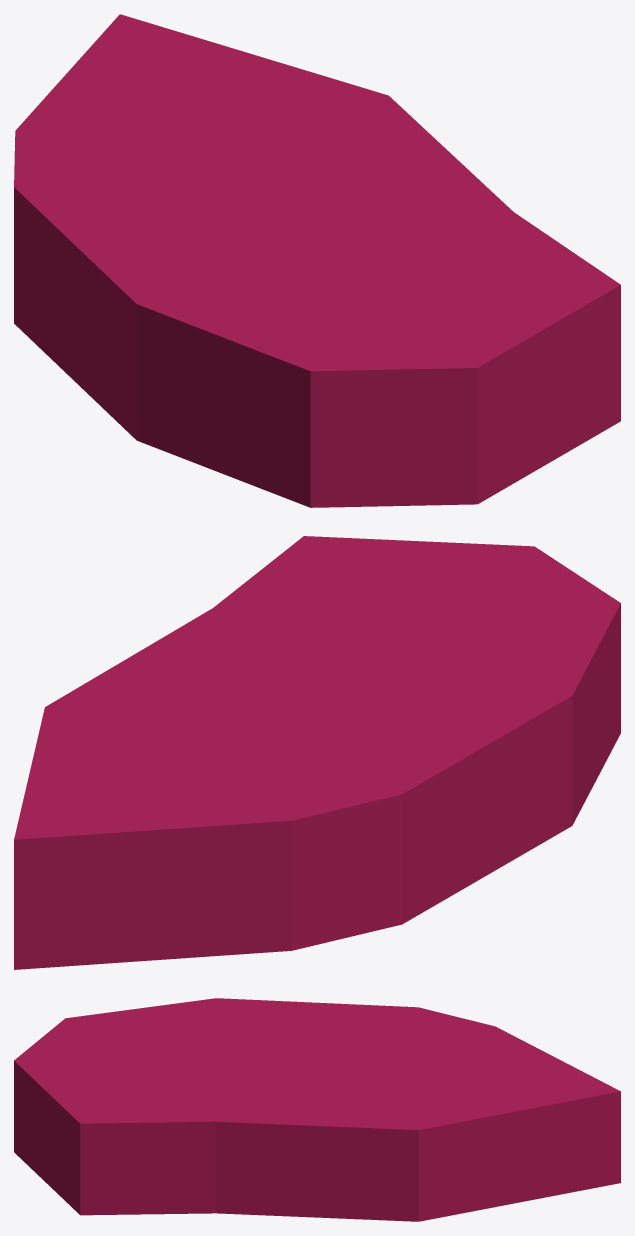
The model's file is Boss_Floor_03.fbx.
3 renders of one model, top to bottom at view 1: azimuth 30°, elevation 25°; view 2: azimuth 150°, elevation 25°; view 3: azimuth 270°, elevation 25°, orthographic. The views are drawn at different scales.
Parts seen in each view (by area): view 1: Boss_Floor_03; view 2: Boss_Floor_03; view 3: Boss_Floor_03.
Boxes of the visible parts, x1=… form: Boss_Floor_03: x1=14, y1=14, x2=620, y2=507; Boss_Floor_03: x1=14, y1=536, x2=620, y2=969; Boss_Floor_03: x1=14, y1=998, x2=620, y2=1221.
Size of the model in its own units: 617 by 200 by 1200.
